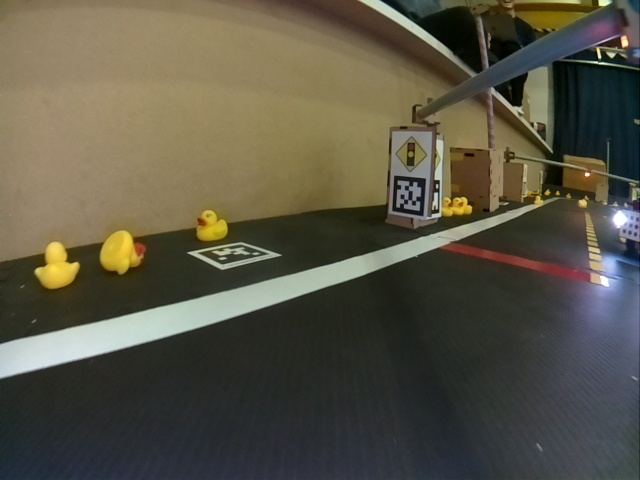Duckie: (100, 230, 143, 274), (37, 243, 79, 288), (197, 210, 228, 237), (463, 197, 472, 215), (443, 198, 451, 214), (454, 200, 461, 214), (536, 196, 543, 205), (578, 201, 587, 207)
Duckiebot: (618, 197, 639, 247)
QR code: (192, 243, 273, 267), (392, 181, 424, 217)
Signal sign: (395, 136, 426, 173)
Traffic light: (585, 172, 592, 178)
